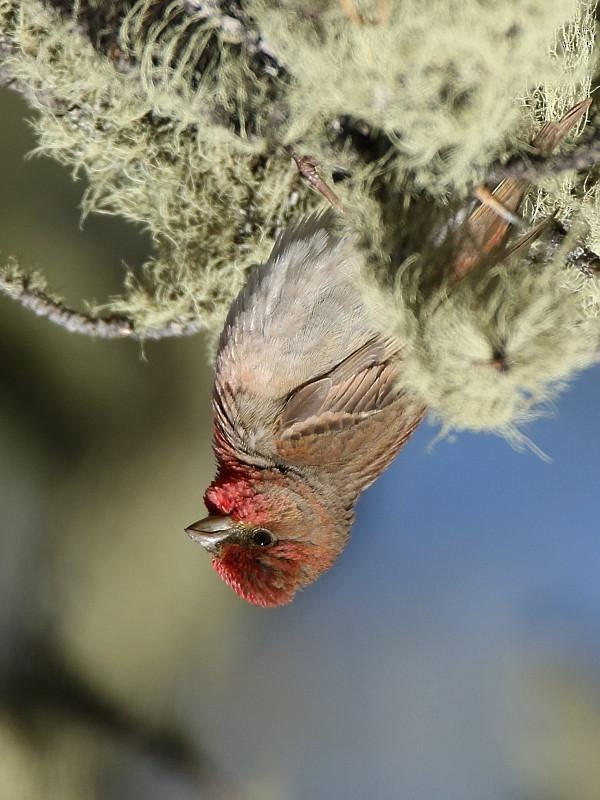rosefinch: (187, 223, 469, 629)
